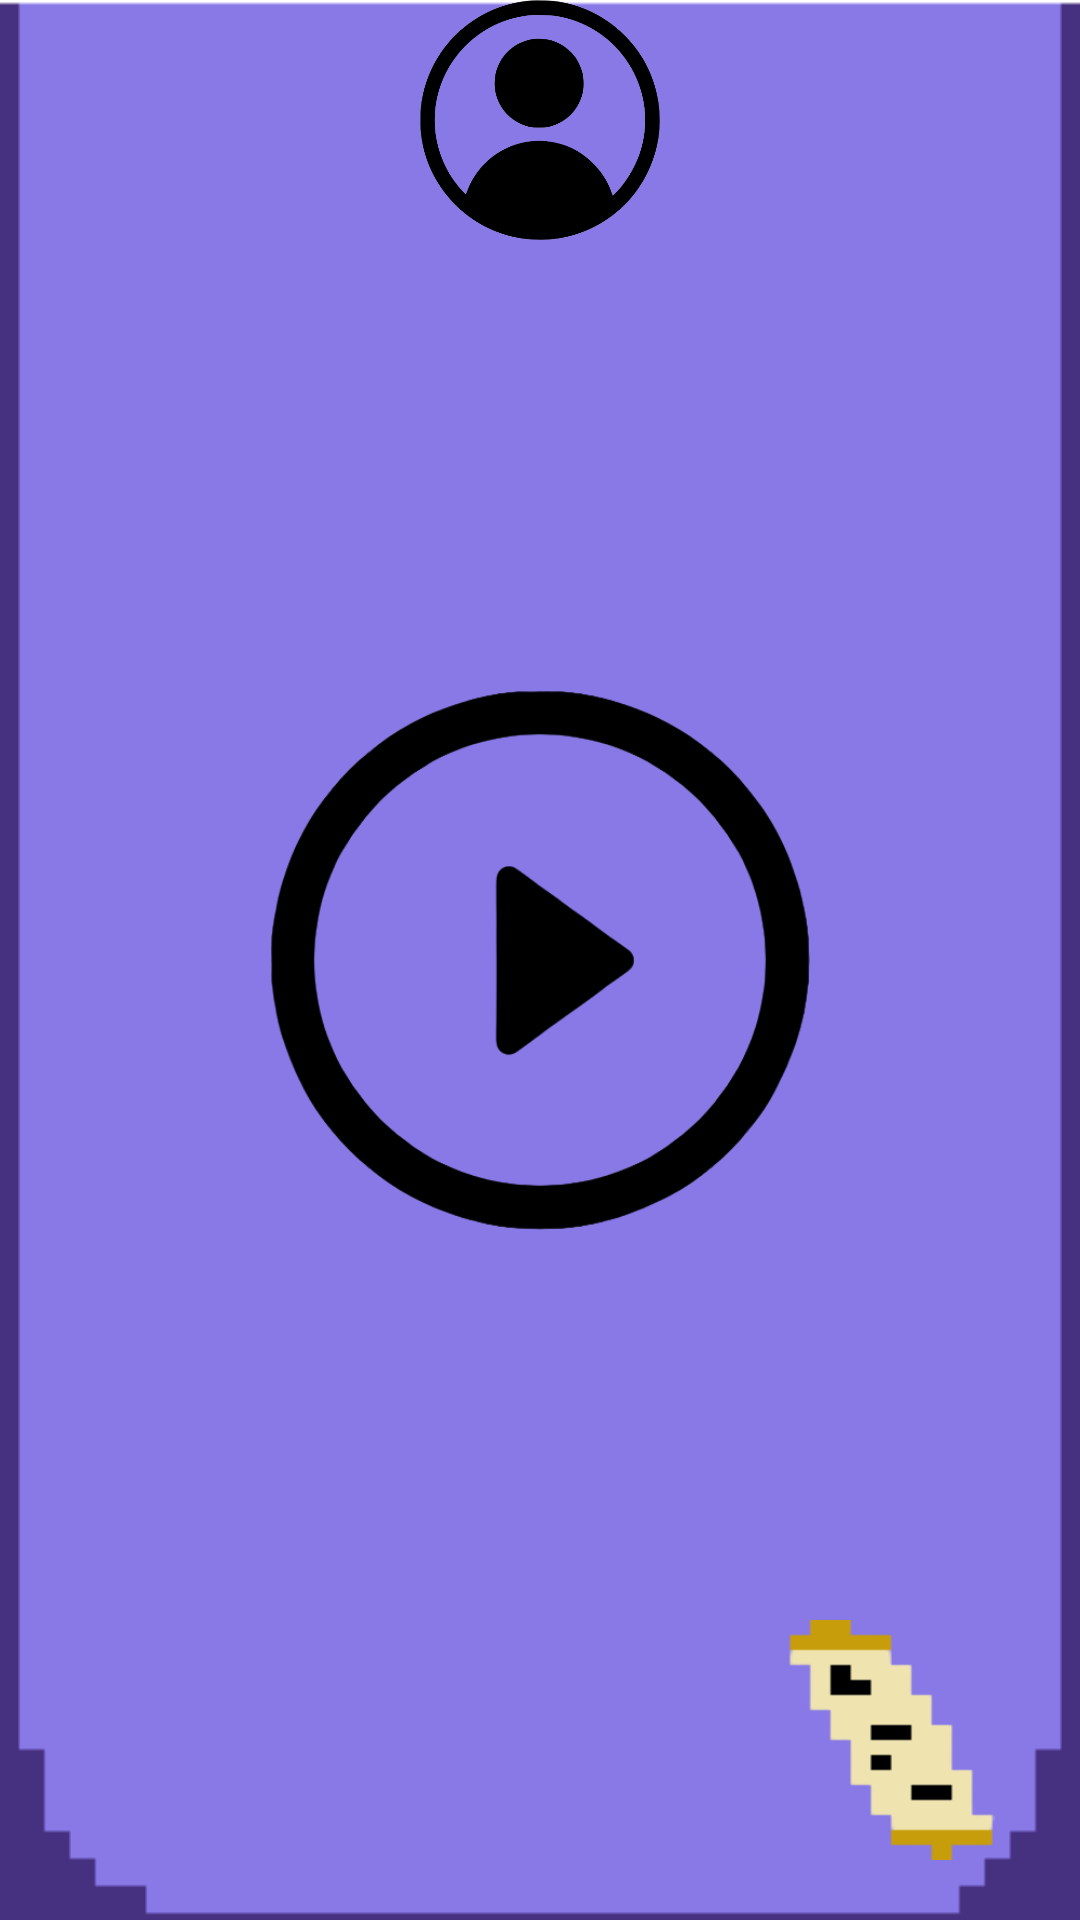

Icons on this 1080x1920 Android screen, each with its box as (x1, y1, x2, y2):
user: (420, 0, 660, 240)
